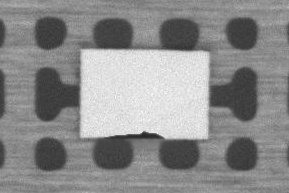DIE_BROKEN: (98, 131, 165, 140)
